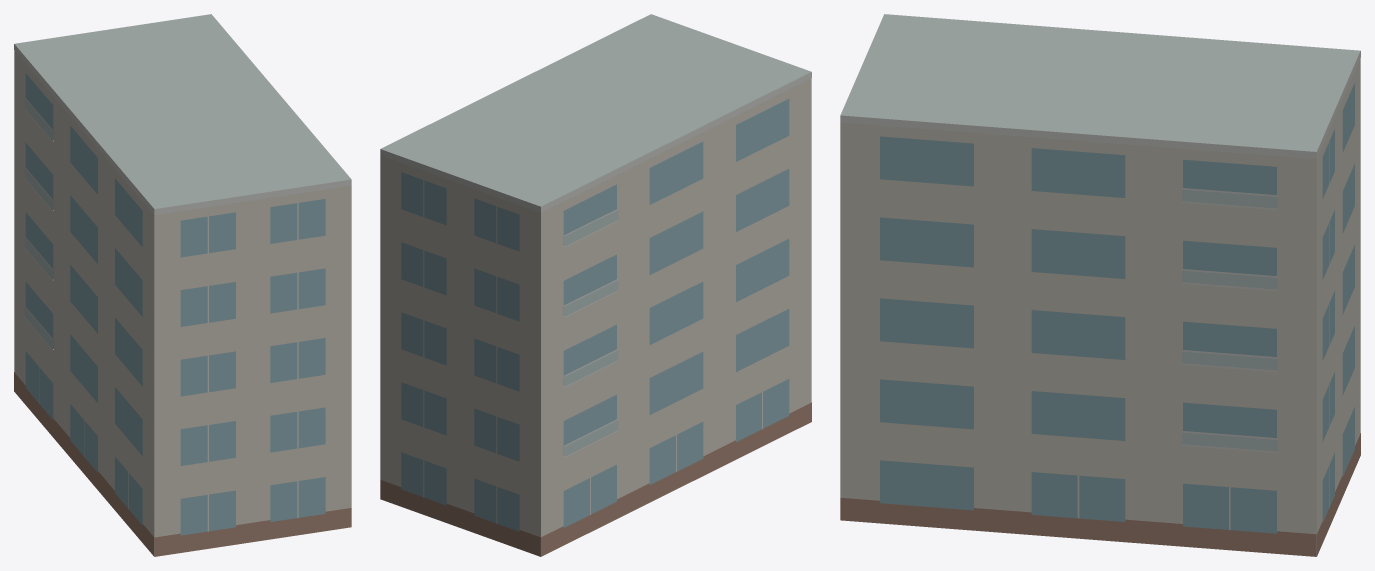
File: survey-upis-32950229.glb
The picture shows the model from 3 angles, left to right: view 1: azimuth 30°, elevation 25°; view 2: azimuth 150°, elevation 25°; view 3: azimuth 270°, elevation 25°; orthographic projection. The views are drawn at different scales.
Visible parts, largest first — view 1: survey-upis-32950229.tmp; view 2: survey-upis-32950229.tmp; view 3: survey-upis-32950229.tmp.
Part boxes in pixels (x1,y1,x2,y2): survey-upis-32950229.tmp: (14, 14, 351, 556); survey-upis-32950229.tmp: (380, 14, 811, 556); survey-upis-32950229.tmp: (840, 14, 1360, 556).
Bounding box in the file's own units: 10.17 × 13.9 × 16.2.
